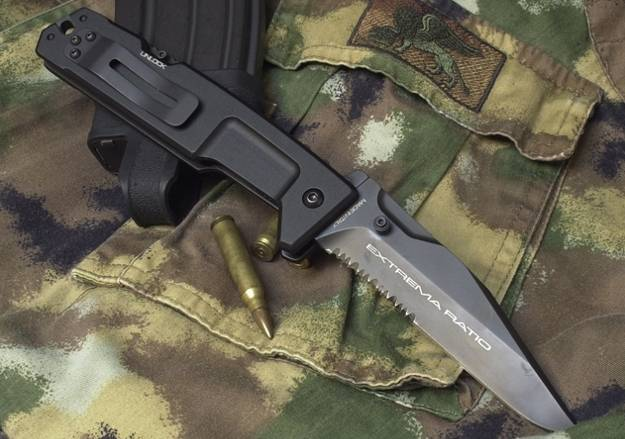knife: (313, 170, 582, 437)
